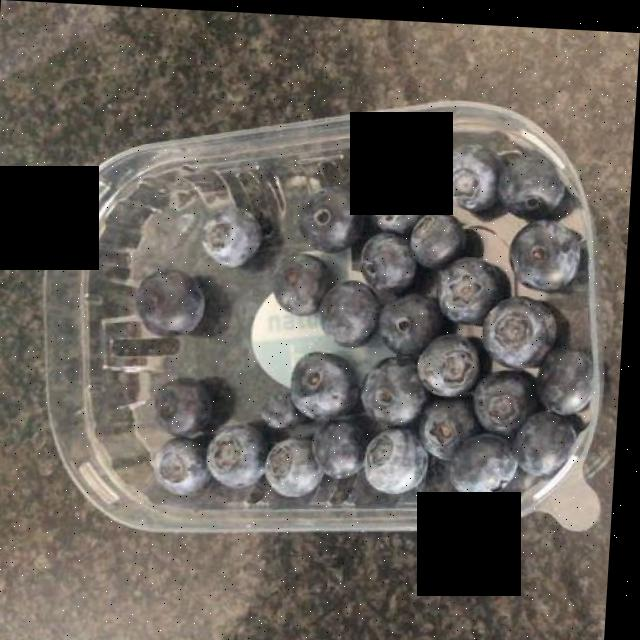blueberries: (121, 132, 590, 511), (125, 140, 580, 497)
